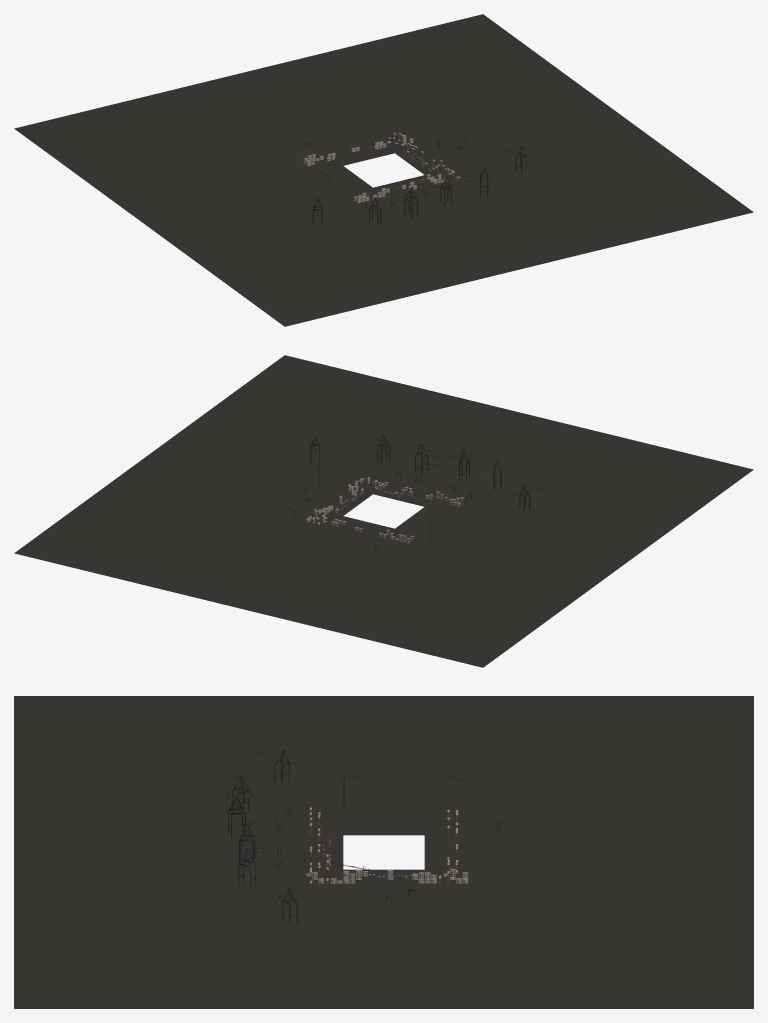
The model's file is lot_backdrop.glb.
3 views of the same model, one above another, from view 1: azimuth 30°, elevation 25°; view 2: azimuth 150°, elevation 25°; view 3: azimuth 270°, elevation 25° (orthographic). The views are drawn at different scales.
Visible parts, largest first — view 1: BD_DarkSteel, BD_Container20_01; view 2: BD_DarkSteel, BD_Container20_01; view 3: BD_DarkSteel, BD_Container20_01.
Part boxes in pixels (bbox=[...]): BD_DarkSteel: bbox=[14, 14, 753, 326]; BD_Container20_01: bbox=[303, 132, 460, 203]; BD_DarkSteel: bbox=[14, 355, 753, 667]; BD_Container20_01: bbox=[306, 477, 464, 544]; BD_DarkSteel: bbox=[14, 696, 753, 1008]; BD_Container20_01: bbox=[306, 807, 468, 885].
Bounding box in the file's own units: 3000 × 177 × 3000.
Materials: 8 (6 with a texture image).
